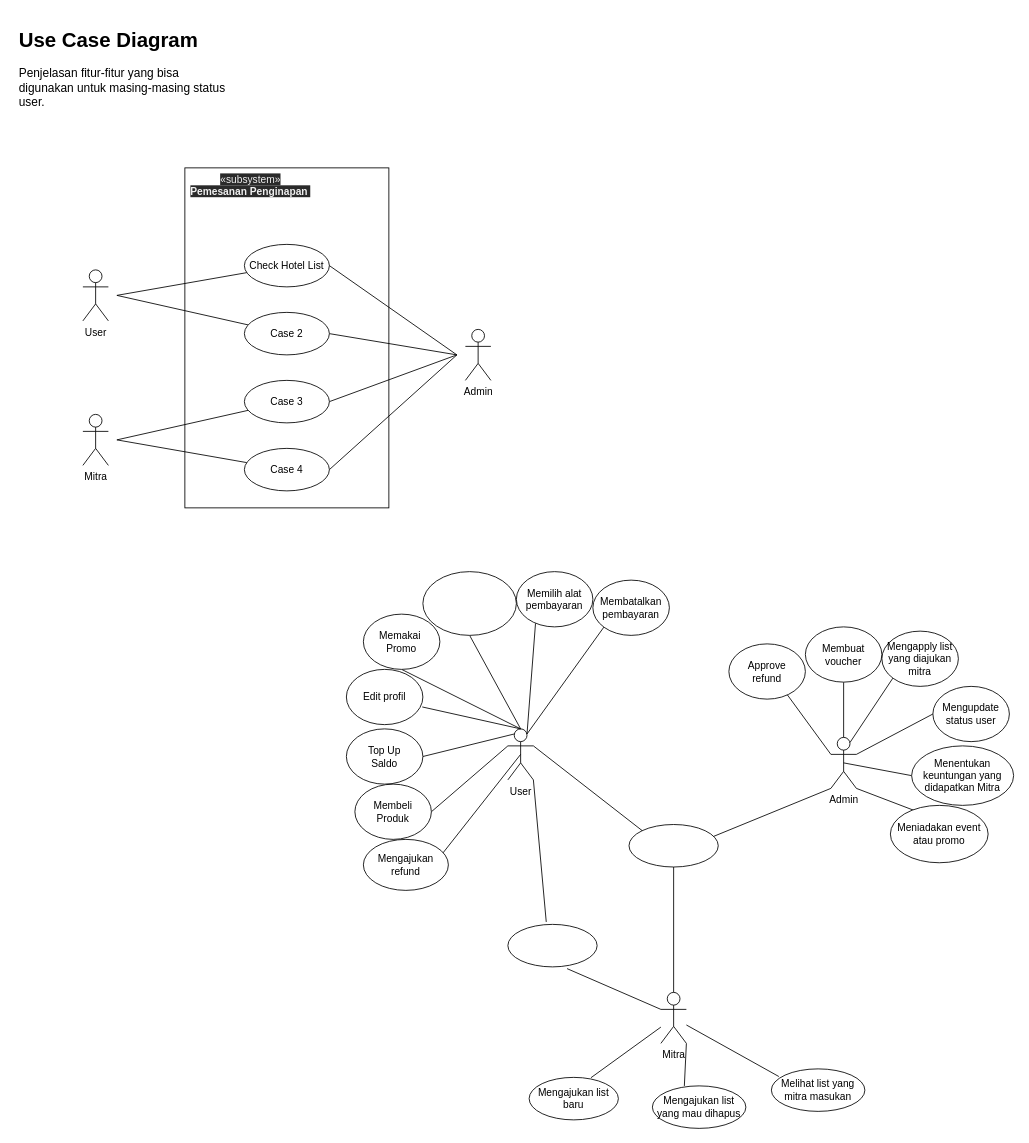
The diagram is 1029 pixels wide and 1143 high, and some of its shapes have lost their labels. Here are the shapes that lost their labels. From the top down, the centre of each, then its label:
the point at 469,603: Mengajukan User menjadi premium
the point at 673,845: Log in
the point at 552,945: Register
